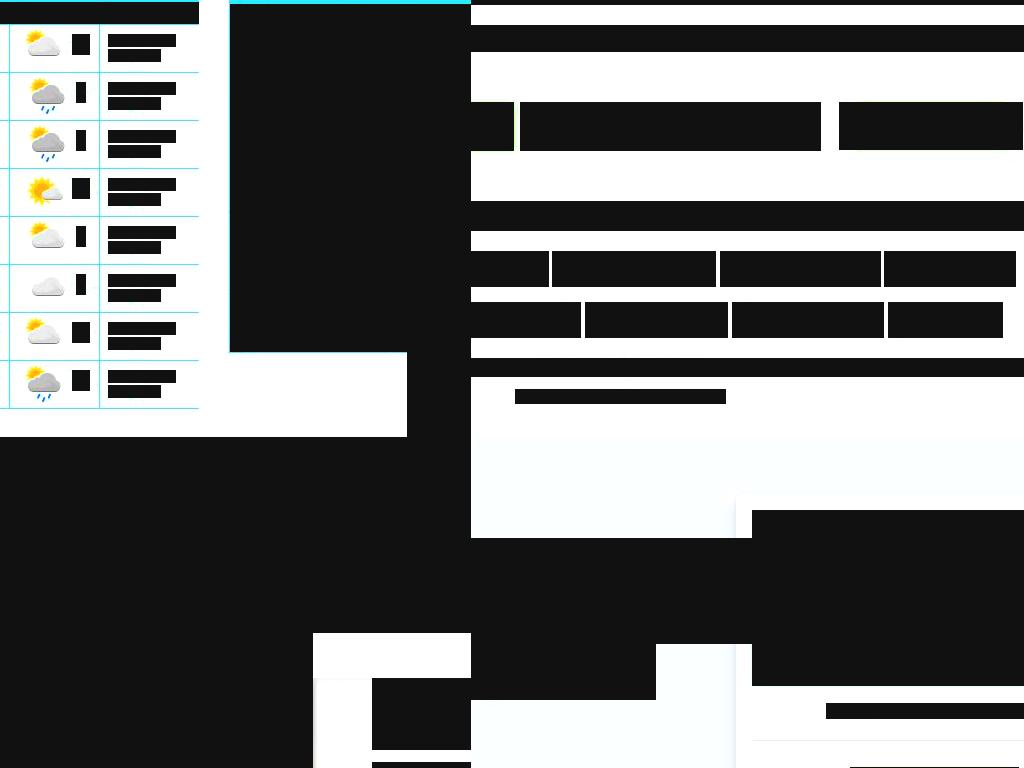button: (0, 581, 313, 768), (752, 638, 1024, 686), (471, 358, 1024, 377), (839, 102, 1023, 150), (552, 251, 716, 287), (720, 251, 881, 287), (732, 302, 884, 338), (585, 302, 728, 338), (884, 251, 1016, 287), (888, 302, 1003, 338), (471, 302, 581, 338), (471, 251, 549, 287)
field: (520, 102, 821, 151), (752, 510, 1024, 562), (752, 574, 1024, 626)
heading: (471, 201, 1024, 231), (471, 636, 656, 700), (372, 678, 471, 750), (372, 489, 471, 538)
iframe: (0, 437, 471, 633)
image: (230, 4, 471, 352), (230, 4, 471, 352), (471, 538, 1024, 644), (0, 581, 313, 768), (407, 135, 471, 391), (407, 135, 471, 391), (241, 334, 252, 352)
link: (826, 703, 1024, 719), (372, 552, 471, 567), (108, 34, 176, 47), (108, 82, 176, 95), (108, 130, 176, 143), (108, 178, 176, 191), (108, 226, 176, 239), (108, 274, 176, 287), (108, 322, 176, 335), (108, 370, 176, 383), (108, 49, 161, 62), (108, 97, 161, 110), (108, 145, 161, 158), (108, 193, 161, 206), (108, 241, 161, 254), (108, 289, 161, 302), (108, 337, 161, 350), (108, 385, 161, 398), (372, 764, 471, 768)
text: (471, 25, 1024, 52), (0, 471, 227, 511), (515, 389, 726, 404), (99, 2, 199, 24), (9, 2, 99, 24), (0, 527, 83, 545), (372, 567, 452, 585), (372, 762, 471, 768), (72, 34, 90, 55), (72, 178, 90, 199), (72, 322, 90, 343), (72, 370, 90, 391), (76, 82, 86, 103), (76, 130, 86, 151), (76, 226, 86, 247), (76, 274, 86, 295)
